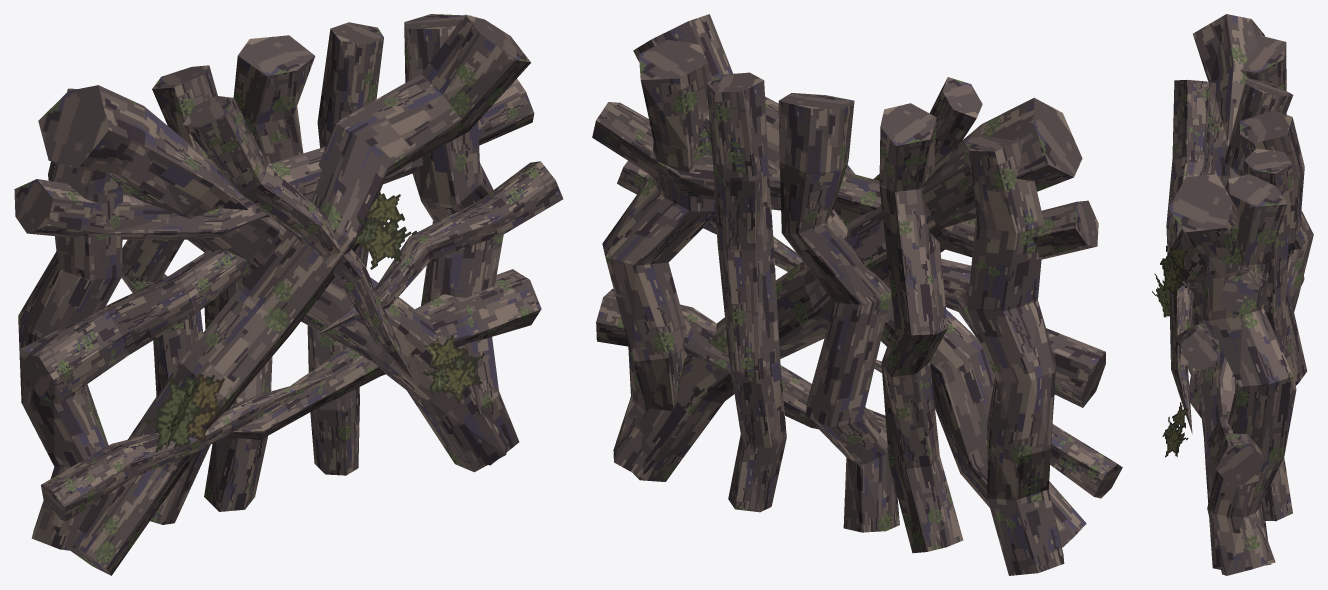
Rendered from SM_CV_RootGate.fbx.
The picture shows the model from 3 angles, left to right: view 1: azimuth 30°, elevation 25°; view 2: azimuth 150°, elevation 25°; view 3: azimuth 270°, elevation 25°; orthographic projection. The views are drawn at different scales.
Parts seen in each view (by area): view 1: CV_RootGate_Roots, CV_RootGate_Leaves; view 2: CV_RootGate_Roots; view 3: CV_RootGate_Roots, CV_RootGate_Leaves.
Part boxes in pixels (bbox=[...]): CV_RootGate_Roots: bbox=[14, 14, 563, 575]; CV_RootGate_Leaves: bbox=[143, 190, 484, 470]; CV_RootGate_Roots: bbox=[592, 14, 1122, 575]; CV_RootGate_Roots: bbox=[1165, 14, 1313, 575]; CV_RootGate_Leaves: bbox=[1152, 245, 1188, 457].
Bounding box in the file's own units: 4.85 × 4.37 × 1.59.
